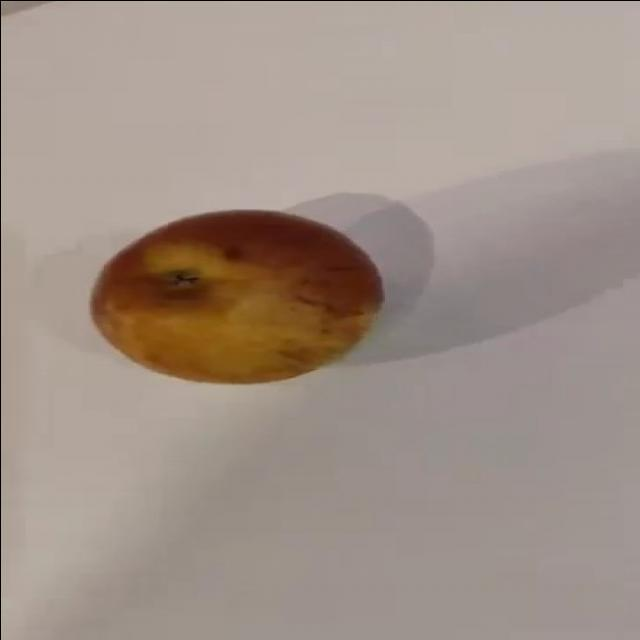Apple: (91, 207, 382, 383)
